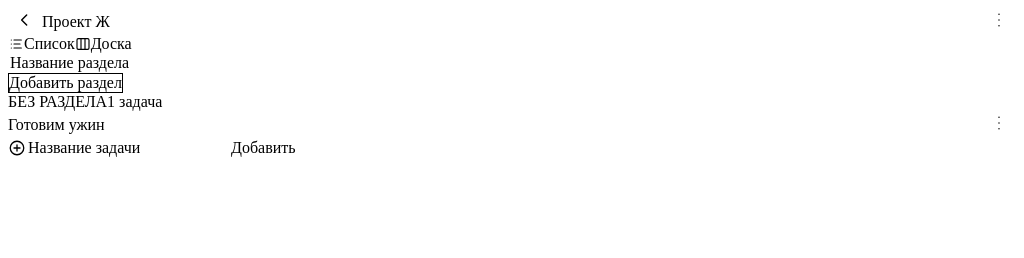
Test: ProjectDetail — действия меню задачи › «Завершить» вызывает completeTaskCommand — задача пропадает из активного списка
Expected: the text "Готовим ужин" is shown, x1=8 y1=116 x2=105 y2=134
Click the button named "Действия с задачей «Готовим ужин»" at [999, 124], box x1=982 y1=111 x2=1016 y2=138
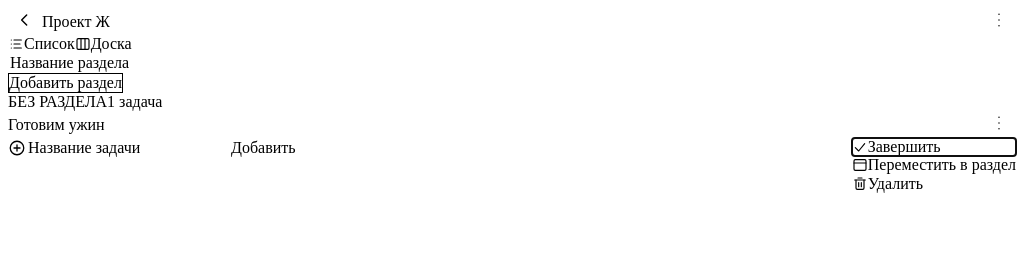
Click the menu item "Завершить" at [934, 147], box x1=852 y1=138 x2=1016 y2=156
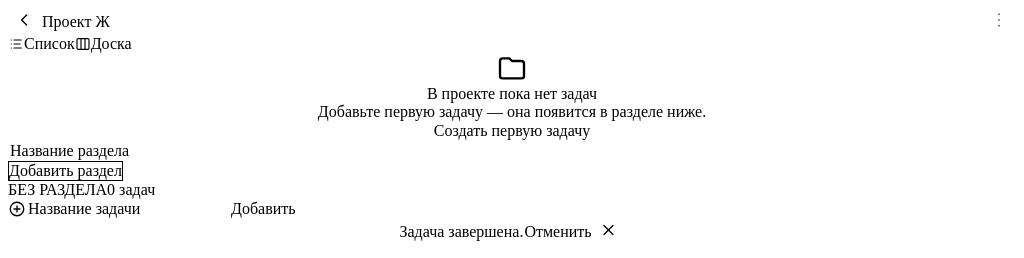
Result: the text "Готовим ужин" is gone
